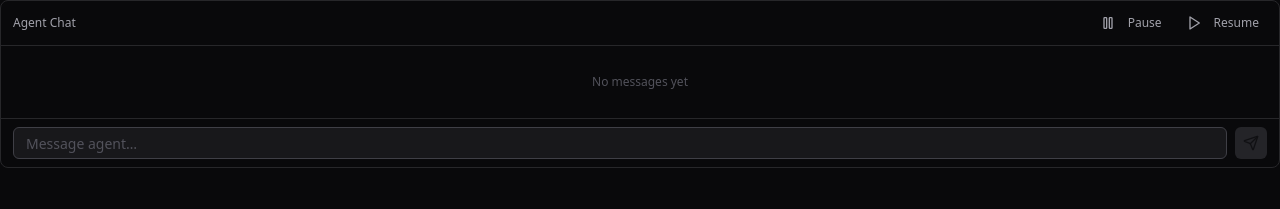
Test case: AgentChat – sending messages › input is disabled while mutation is pending
Type "pending test" into the field with placeholder "Message agent…" at (620, 143), box [13, 127, 1227, 159]
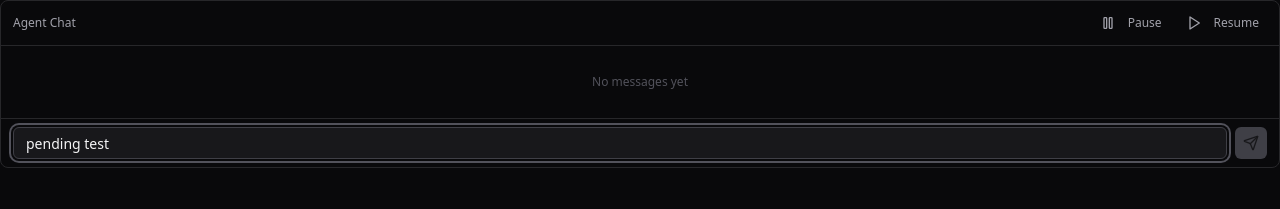
Click the button named "send message" at (1251, 143), box [1235, 127, 1267, 159]
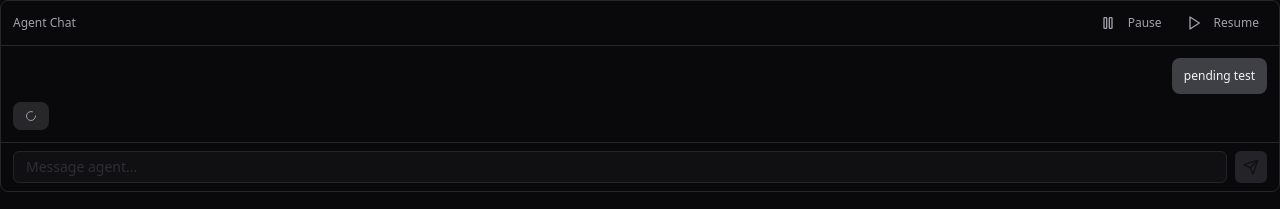
Expected: the field with placeholder "Message agent…" is disabled, [13, 150, 1227, 182]
